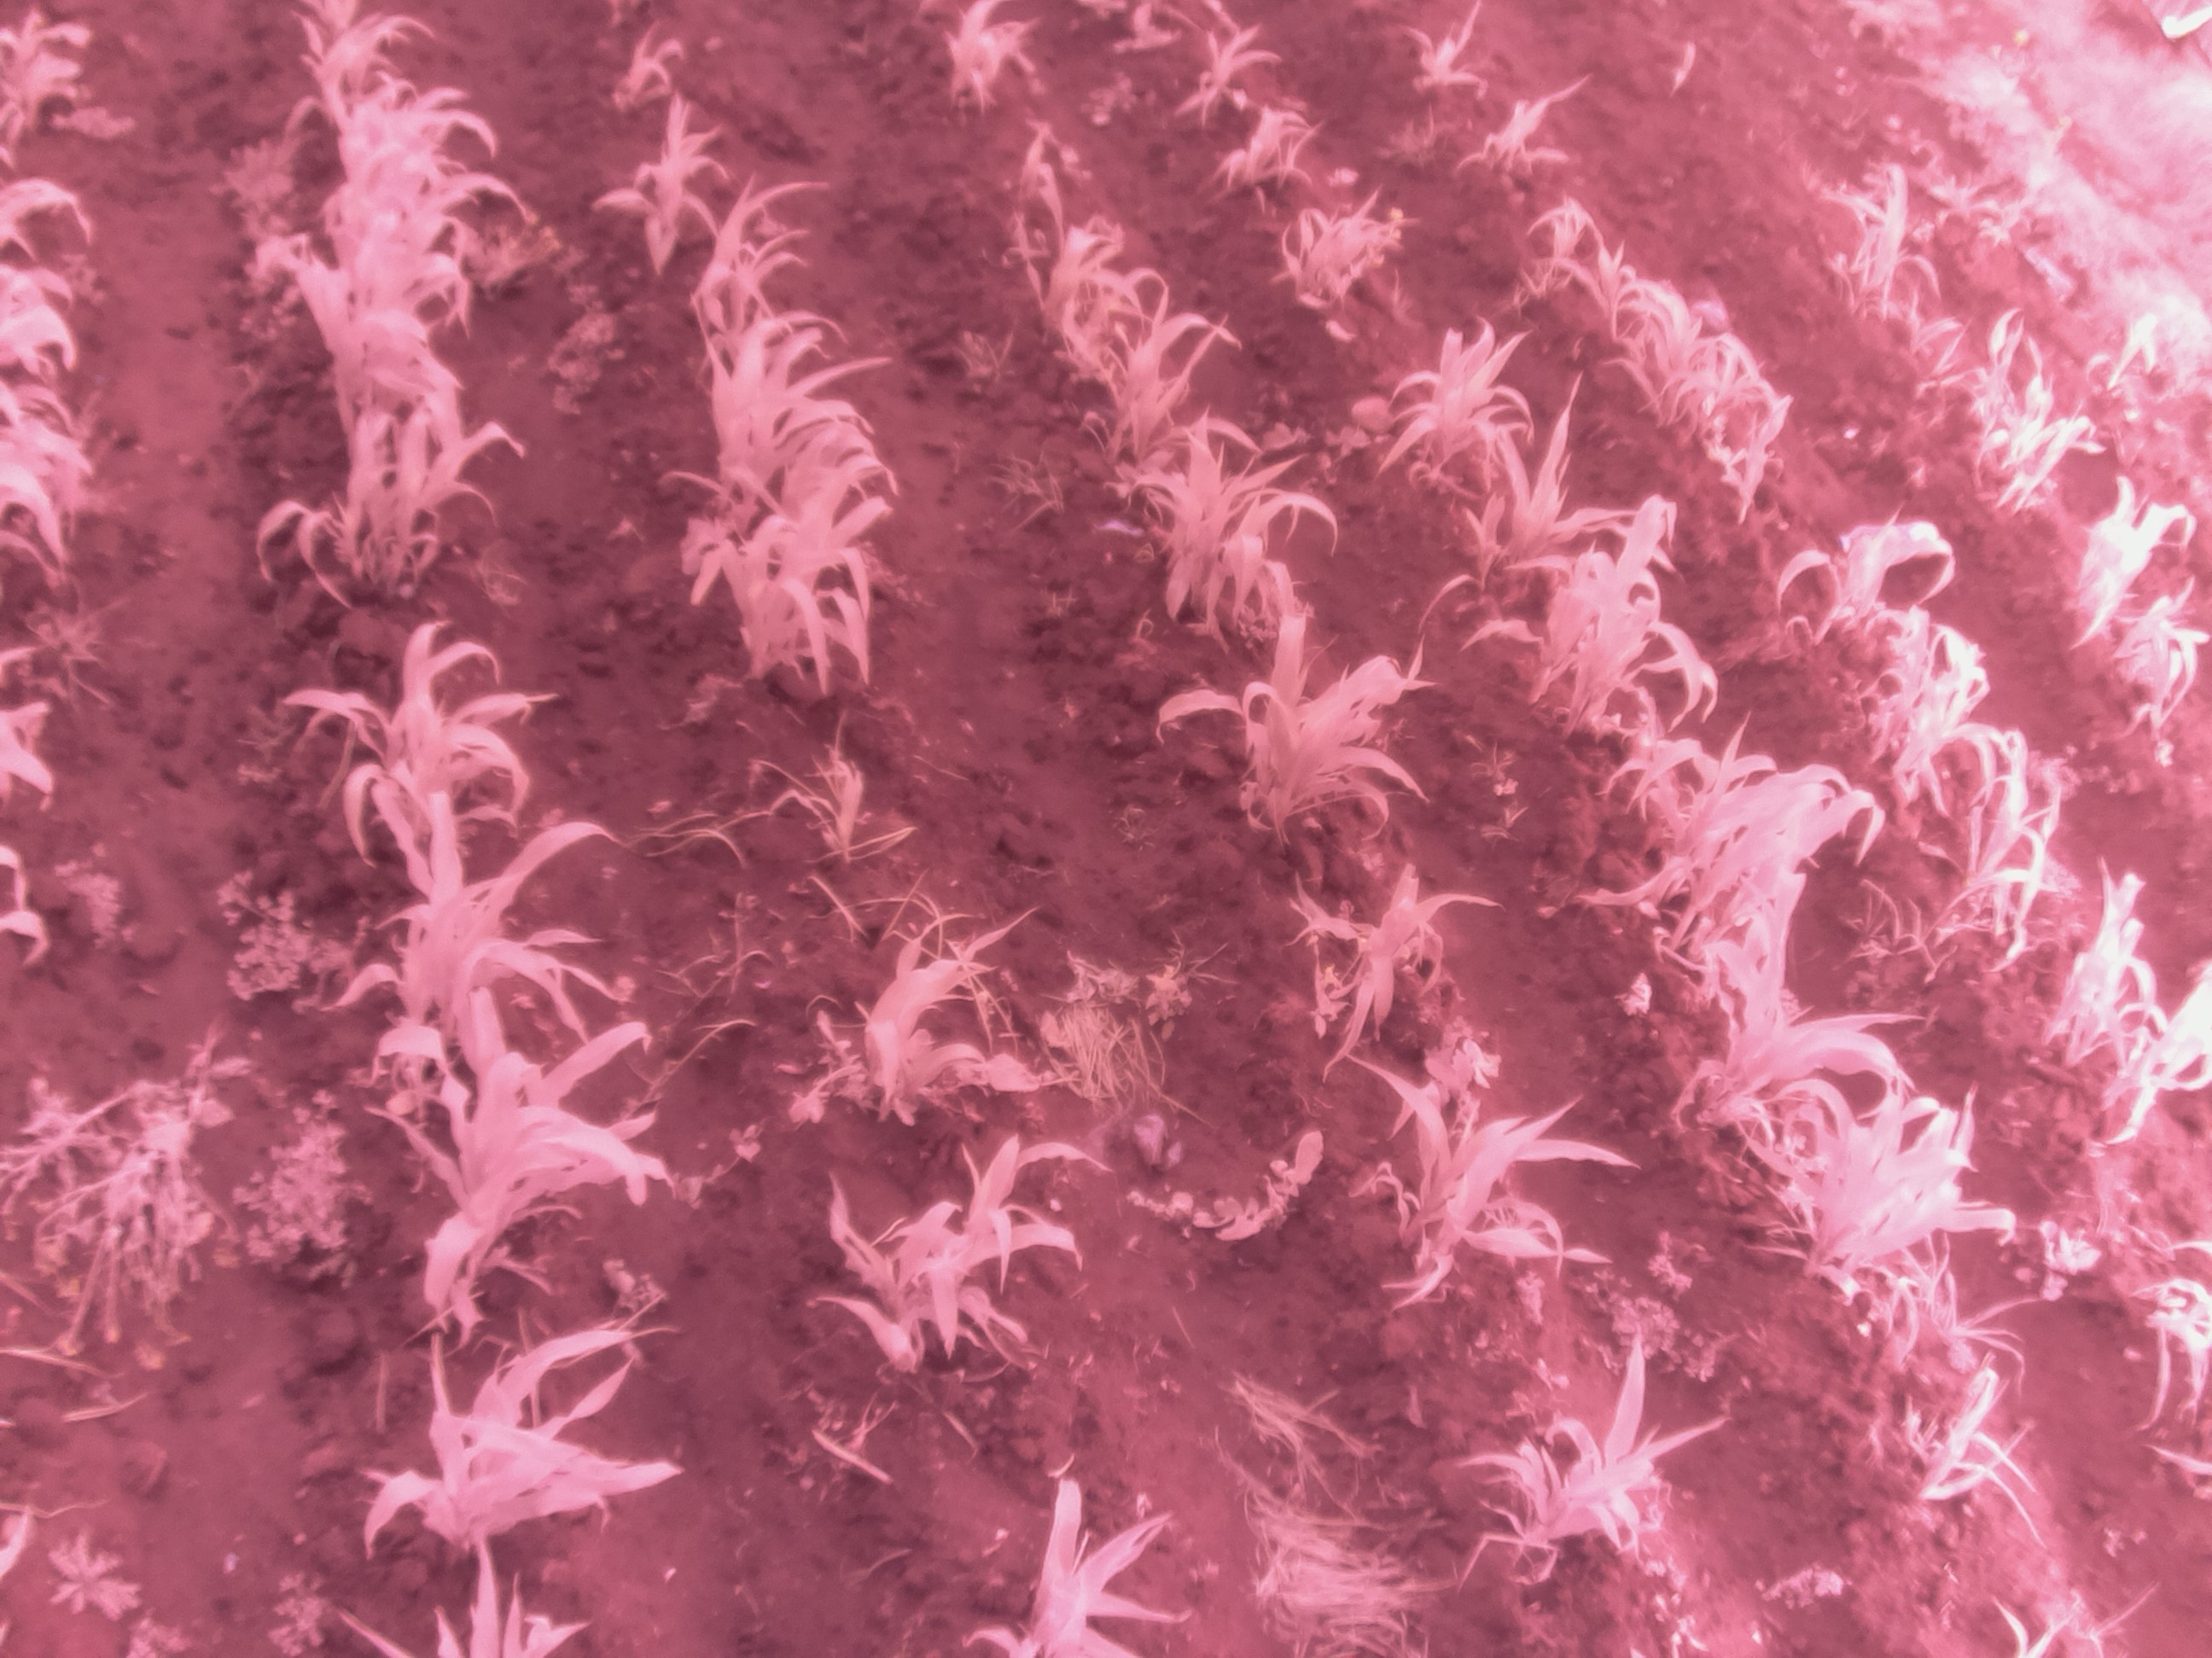Maiz: (340, 1017, 685, 1308), (1308, 1043, 1658, 1313), (287, 589, 549, 890), (314, 799, 634, 1043), (1137, 608, 1447, 843), (338, 1338, 690, 1533), (801, 1146, 1097, 1378), (796, 927, 1073, 1153), (1486, 1346, 1738, 1590), (1658, 728, 1874, 1008), (246, 209, 477, 467), (1258, 845, 1501, 1078), (291, 110, 524, 352), (1703, 913, 1919, 1167), (674, 280, 869, 561), (298, 347, 529, 578), (1491, 509, 1726, 737), (1456, 369, 1642, 639), (1791, 1083, 2031, 1289), (712, 462, 897, 700), (1770, 470, 1958, 704), (972, 1446, 1167, 1658), (1080, 411, 1235, 658), (293, 85, 482, 273), (1374, 301, 1554, 498), (996, 172, 1155, 388), (1204, 427, 1346, 653), (1104, 277, 1242, 496), (2048, 838, 2161, 1104), (1878, 583, 1998, 829), (1961, 725, 2083, 956), (2060, 455, 2202, 651), (597, 80, 728, 280), (340, 1554, 585, 1658), (1912, 1348, 2036, 1555), (1987, 357, 2114, 543), (700, 157, 831, 338), (1261, 178, 1440, 303), (1623, 258, 1740, 448), (1575, 216, 1691, 402), (1696, 343, 1797, 554), (1825, 157, 1944, 336), (2106, 960, 2212, 1148), (906, 0, 1073, 108), (968, 101, 1101, 237), (2087, 568, 2212, 711), (765, 758, 920, 873), (1972, 296, 2066, 482), (1440, 71, 1606, 169), (5, 0, 110, 152), (1169, 14, 1285, 141), (282, 0, 421, 104), (1200, 96, 1324, 212), (0, 414, 85, 573), (1527, 188, 1611, 333), (0, 261, 103, 376), (1376, 3, 1480, 104), (590, 14, 698, 111), (1893, 282, 1977, 404), (2146, 1240, 2212, 1390), (0, 686, 73, 796), (0, 195, 89, 280)
